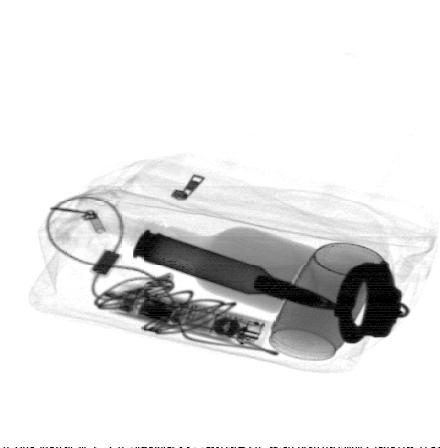Bullet: (133, 230, 341, 308)
HandCuffs: (332, 261, 412, 345)
